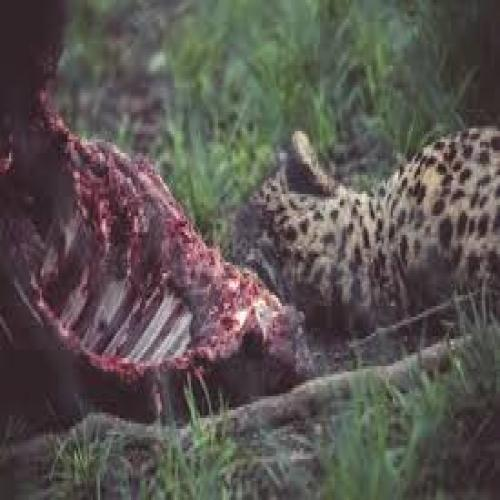jaguar_not-endangered: (223, 126, 500, 320)
